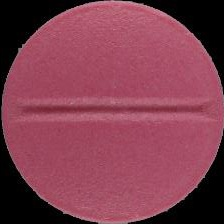55289-413: (0, 0, 224, 224)
